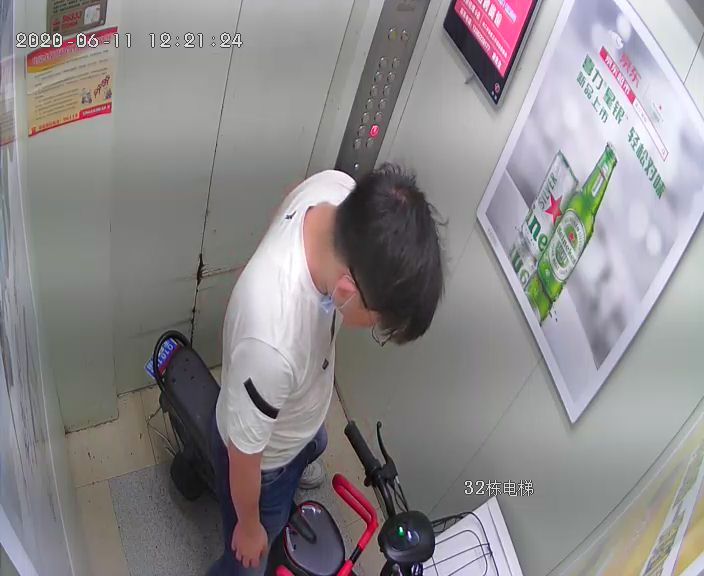Electric-bicycle: (152, 330, 436, 570)
